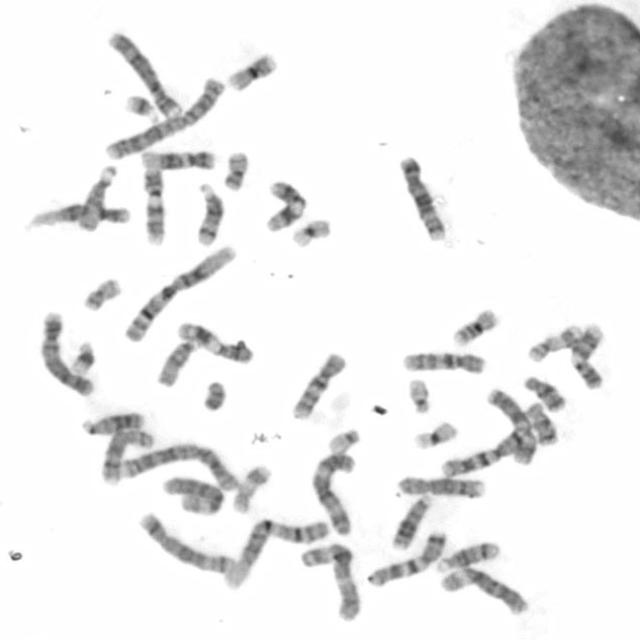A1: (118, 242, 239, 344), (220, 514, 330, 591)
A2: (100, 74, 228, 161), (110, 440, 242, 492)
A3: (297, 539, 361, 623), (306, 447, 357, 537)
B4: (105, 26, 185, 120), (35, 306, 97, 398)
B5: (132, 508, 236, 576), (395, 151, 448, 243)
C10: (287, 349, 348, 422), (398, 347, 488, 376)
C11: (174, 318, 255, 364), (260, 176, 308, 234)
C12: (29, 201, 130, 231), (136, 146, 218, 172)
C6: (436, 562, 531, 616), (160, 472, 225, 516)
C7: (436, 423, 536, 478), (362, 526, 449, 588)
C8: (97, 424, 156, 486), (392, 472, 488, 499)
C9: (565, 320, 609, 391), (137, 164, 168, 247)
D13: (386, 489, 434, 552), (78, 408, 144, 436)
D14: (432, 537, 502, 574), (192, 180, 226, 247)
D15: (75, 161, 118, 232), (153, 336, 200, 388)
E16: (222, 48, 279, 92), (448, 304, 500, 348)
E17: (524, 321, 584, 364), (228, 461, 272, 515)
E18: (520, 372, 567, 413), (523, 400, 560, 446)
F19: (410, 417, 460, 450), (287, 215, 332, 249)
F20: (78, 274, 124, 314), (218, 146, 251, 192)
G21: (122, 90, 161, 124), (66, 336, 97, 376)
G22: (404, 375, 434, 415), (325, 425, 362, 453)
X: (481, 386, 536, 468)
Y: (198, 378, 228, 413)
